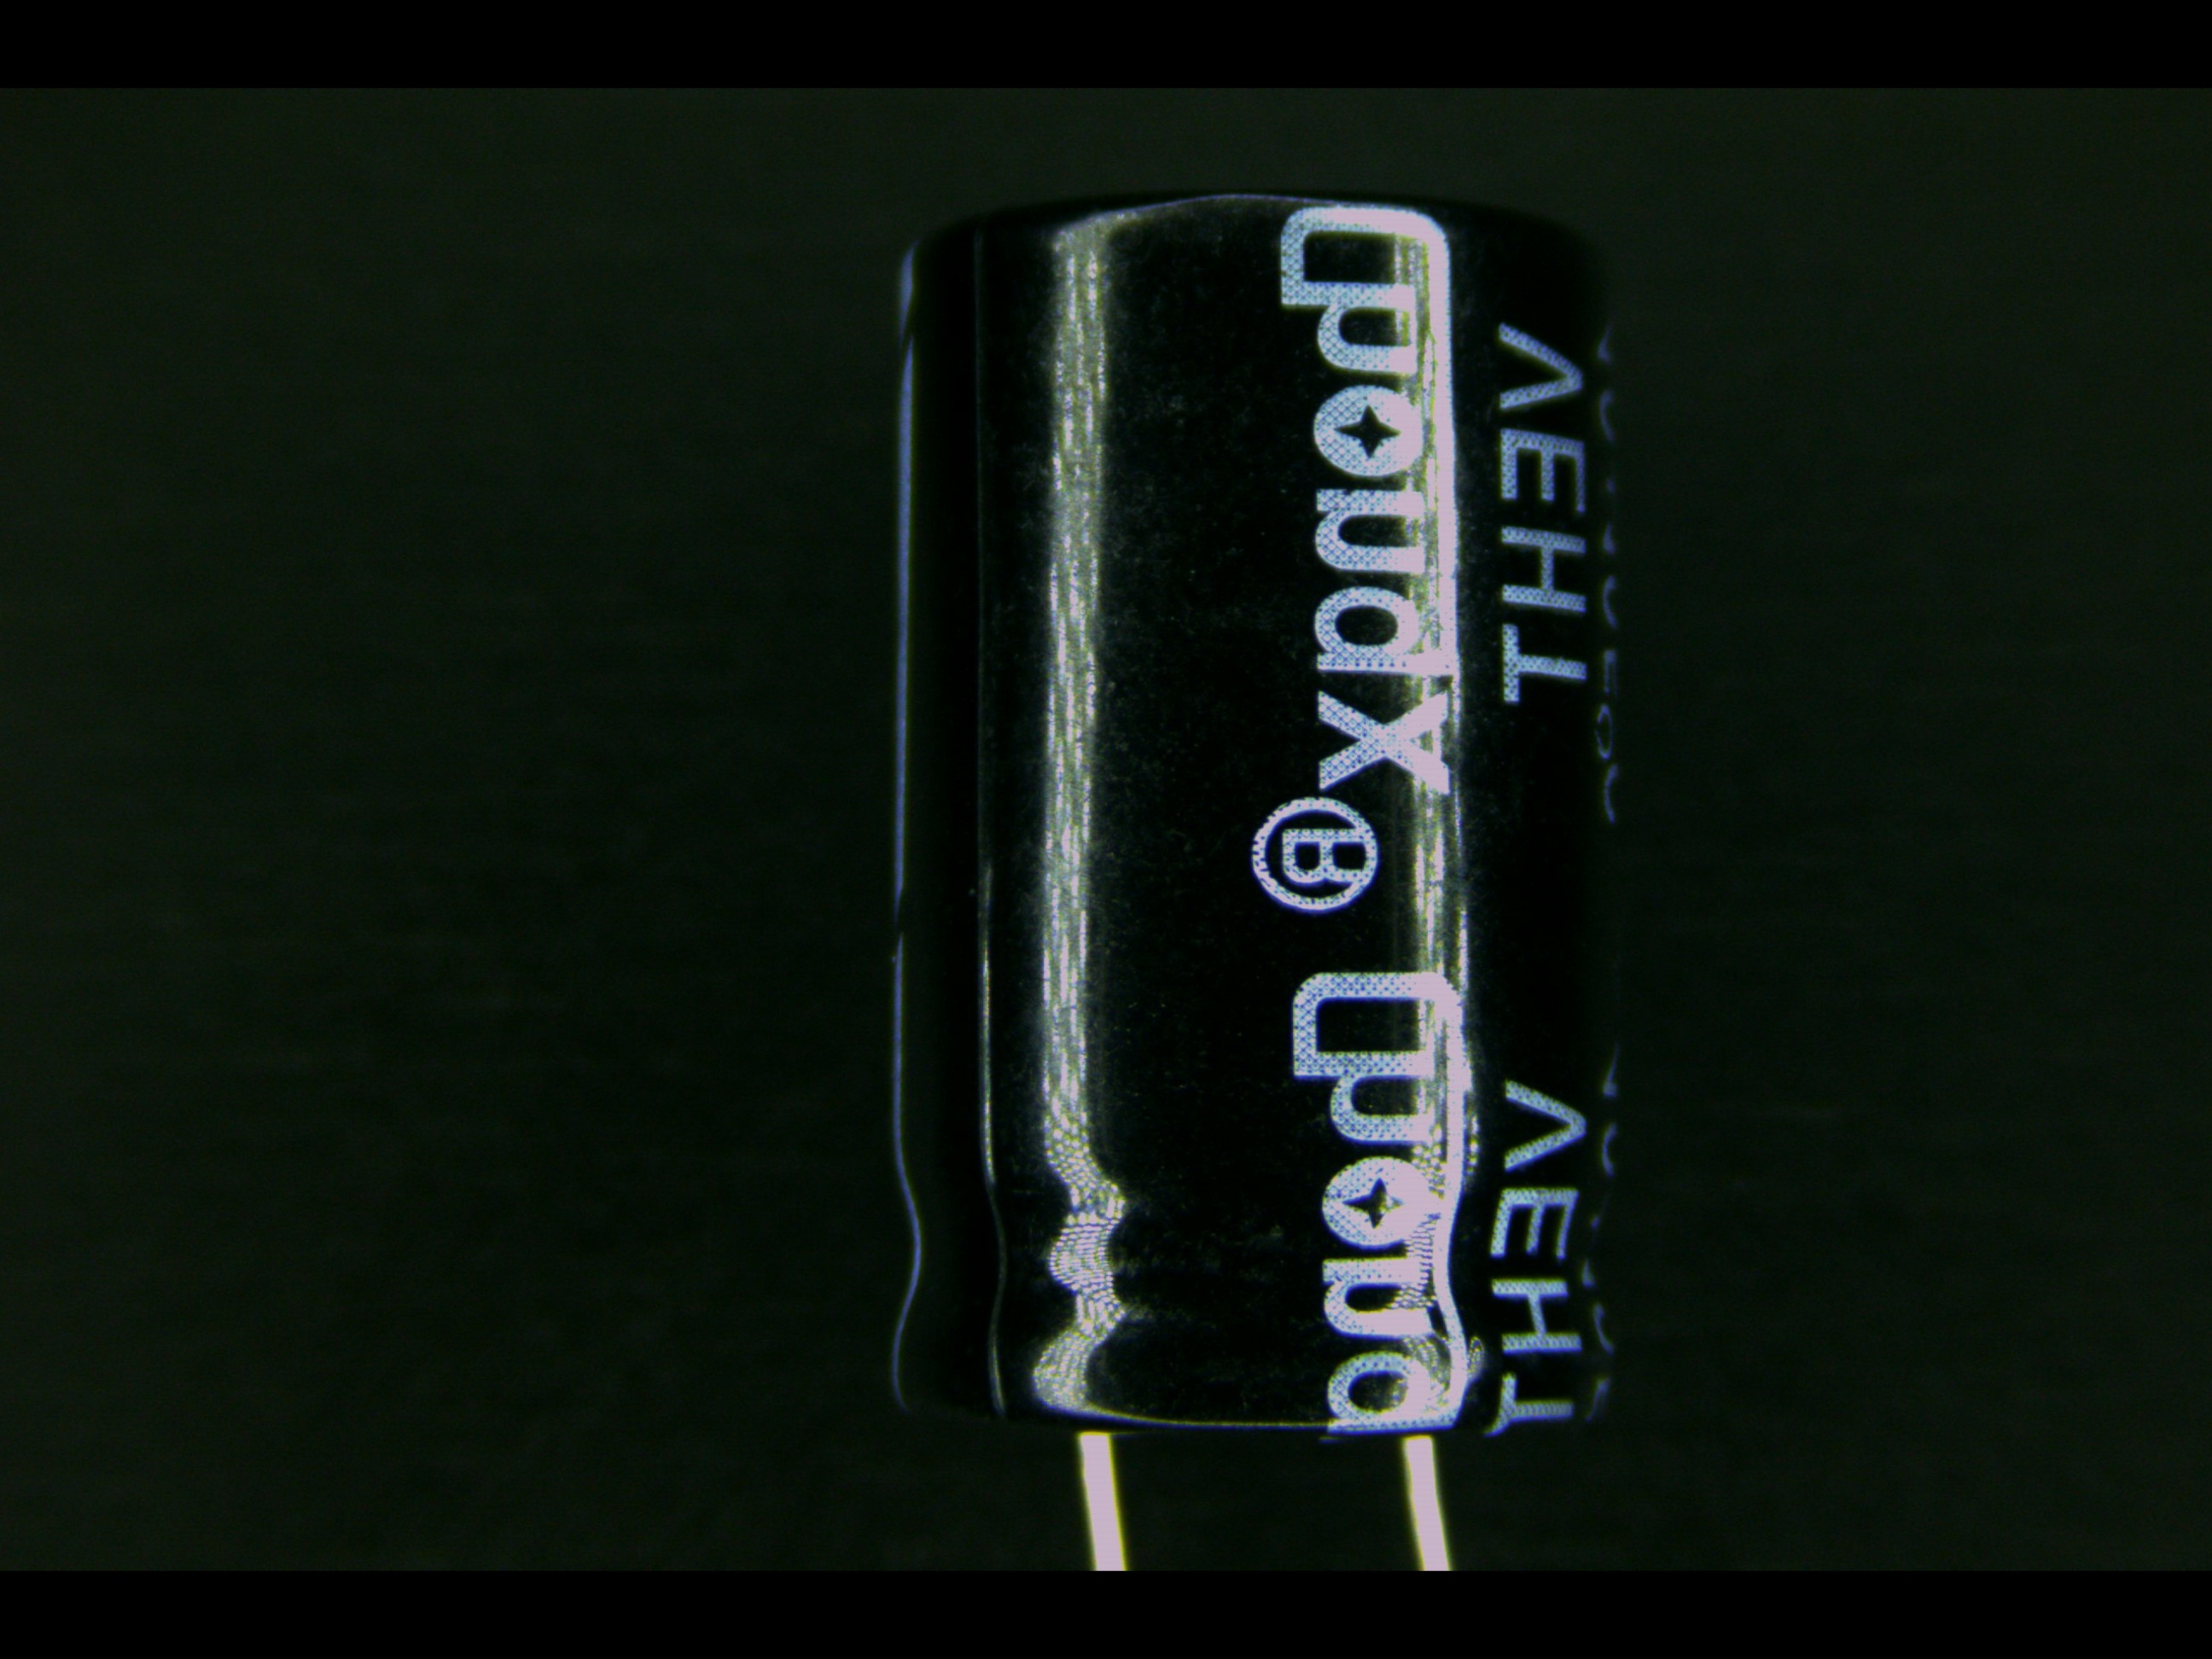c3: (873, 183, 1646, 1457)
